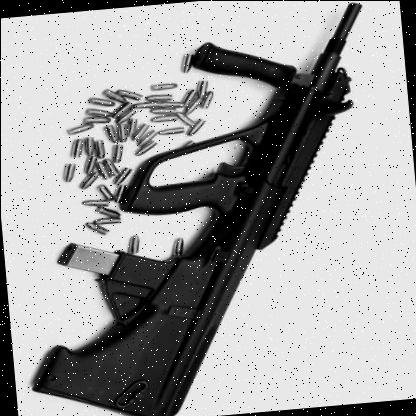rifle: (8, 0, 406, 416)
